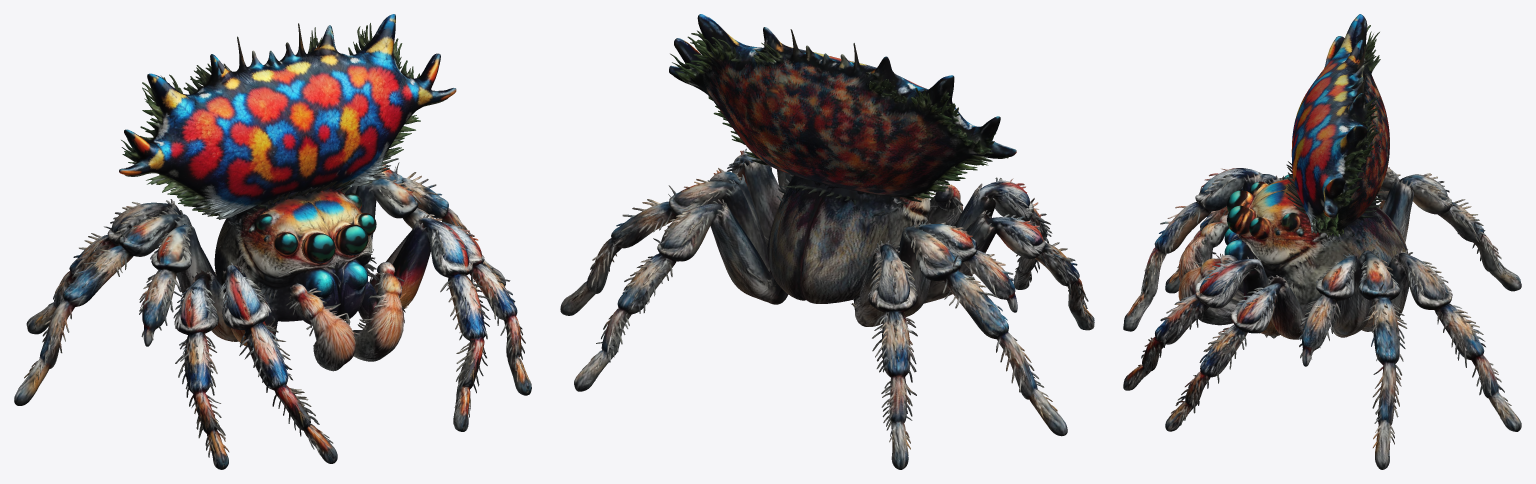
Rendered from colorful-spider.glb.
3 views of the same model, side by side, from view 1: azimuth 30°, elevation 25°; view 2: azimuth 150°, elevation 25°; view 3: azimuth 270°, elevation 25° (orthographic). The views are drawn at different scales.
Visible parts, largest first — view 1: tripo_node_141c7047-88d8-48ac-ba3d-39ef74a60520; view 2: tripo_node_141c7047-88d8-48ac-ba3d-39ef74a60520; view 3: tripo_node_141c7047-88d8-48ac-ba3d-39ef74a60520.
Boxes of the visible parts, x1,y1,x2,y2 form: tripo_node_141c7047-88d8-48ac-ba3d-39ef74a60520: (14, 14, 531, 469); tripo_node_141c7047-88d8-48ac-ba3d-39ef74a60520: (560, 14, 1094, 469); tripo_node_141c7047-88d8-48ac-ba3d-39ef74a60520: (1123, 14, 1521, 469).
Bounding box in the file's own units: 0.9821 × 0.6233 × 0.742.
1 material, 1 textured.
